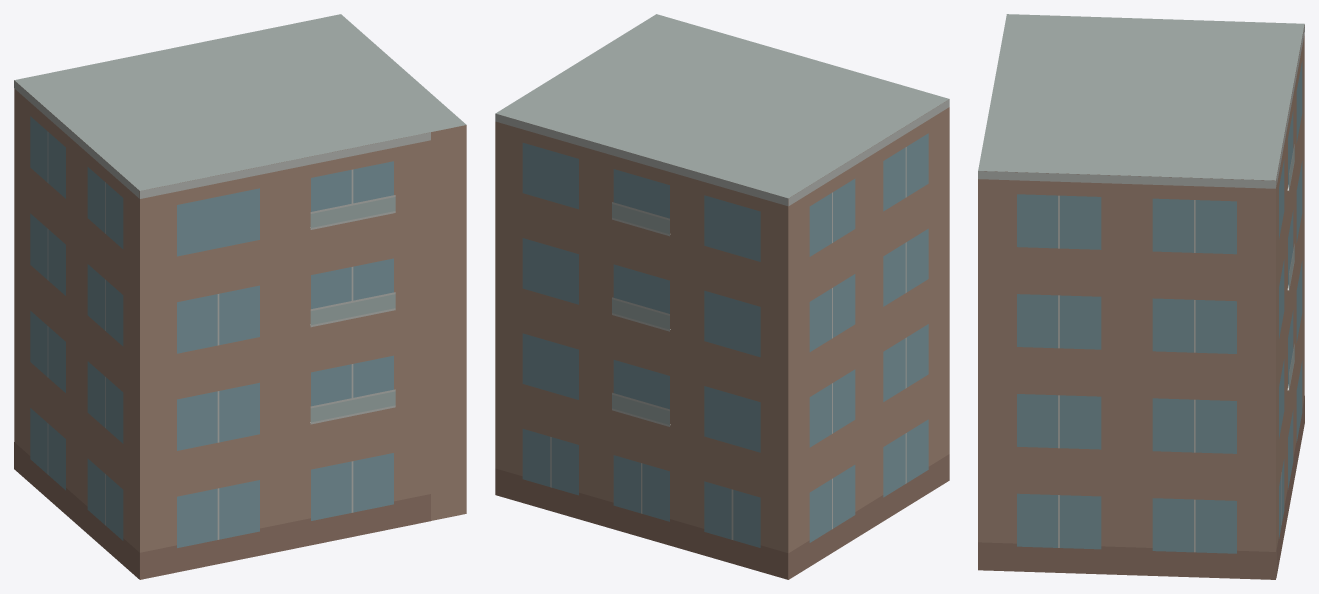
File: survey-upis-33038101.glb
3 views of the same model, side by side, from view 1: azimuth 30°, elevation 25°; view 2: azimuth 150°, elevation 25°; view 3: azimuth 270°, elevation 25° (orthographic). The views are drawn at different scales.
Parts seen in each view (by area): view 1: survey-upis-33038101.tmp; view 2: survey-upis-33038101.tmp; view 3: survey-upis-33038101.tmp.
Boxes of the visible parts, <box> form: survey-upis-33038101.tmp: <box>14,14,466,579</box>; survey-upis-33038101.tmp: <box>495,14,949,579</box>; survey-upis-33038101.tmp: <box>978,14,1304,579</box>.
Size of the model in its own units: 10.47 by 11.7 by 8.68.
